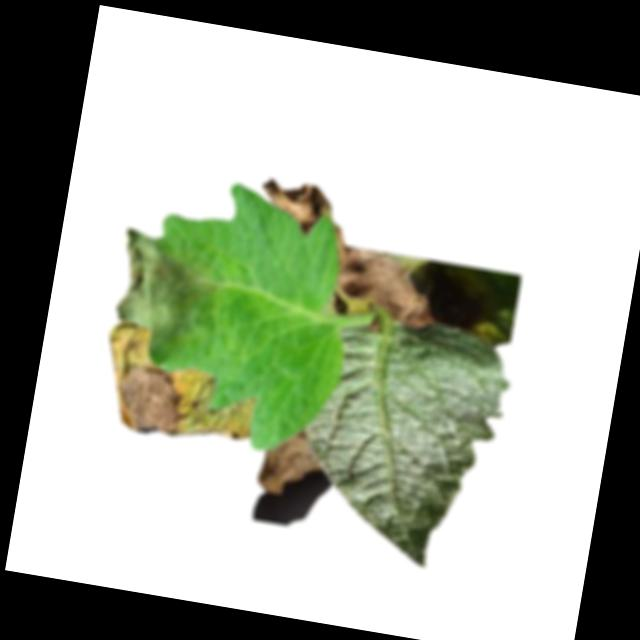Late_blight: (91, 319, 266, 453), (103, 225, 218, 368), (317, 222, 447, 333), (254, 421, 326, 500), (252, 175, 335, 238)
healthy: (283, 306, 519, 578)
